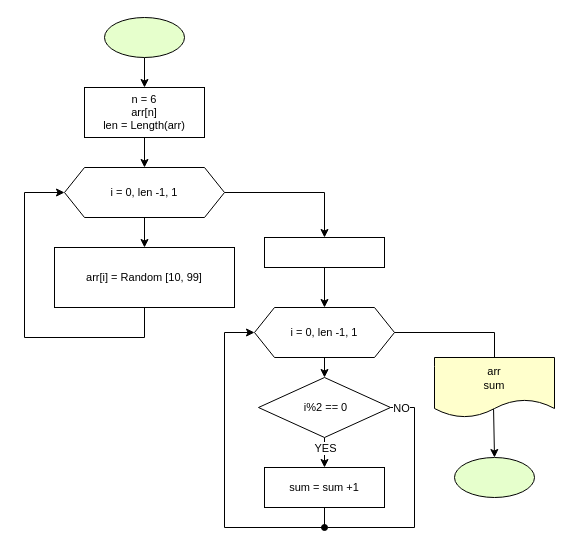
This 572x553 diagram has some shape labels left out. Each missing label, with the centre of its shape:
"end" goes at point 494,477.
"start" goes at point 144,37.
"sum = 0" goes at point 324,252.
